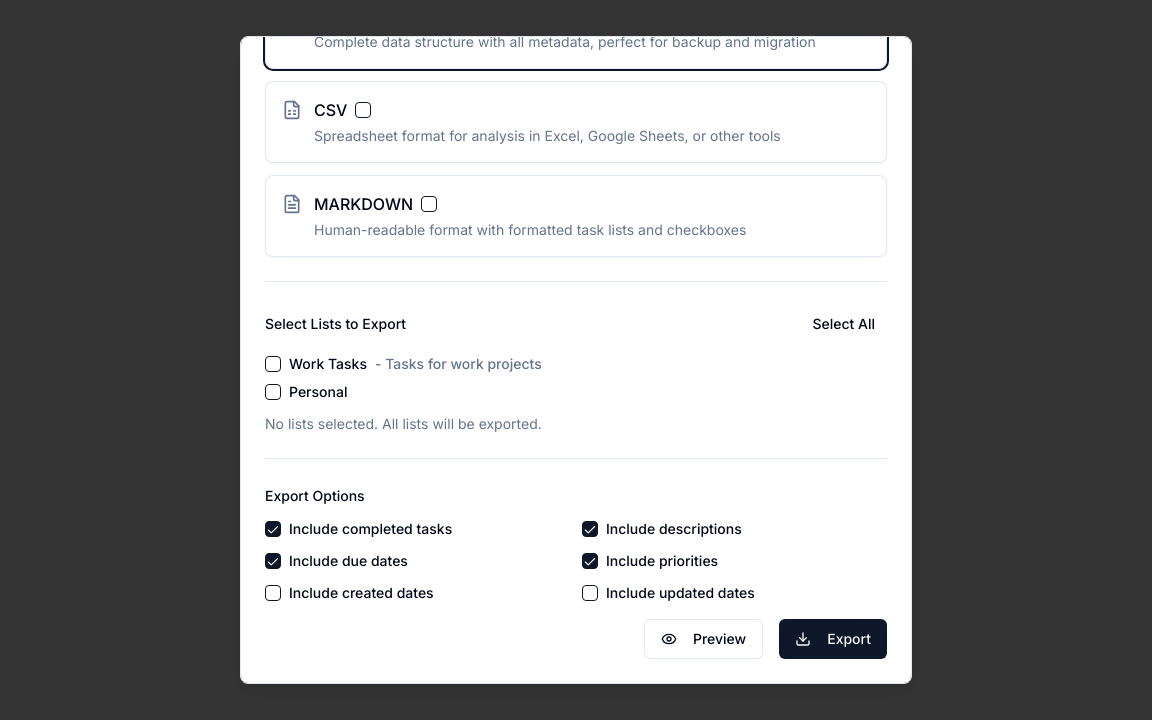
Test case: ExportDialog › handles preview functionality
(page scrolled)
Click the button "Preview" at (704, 639), box 644,619 -> 763,659
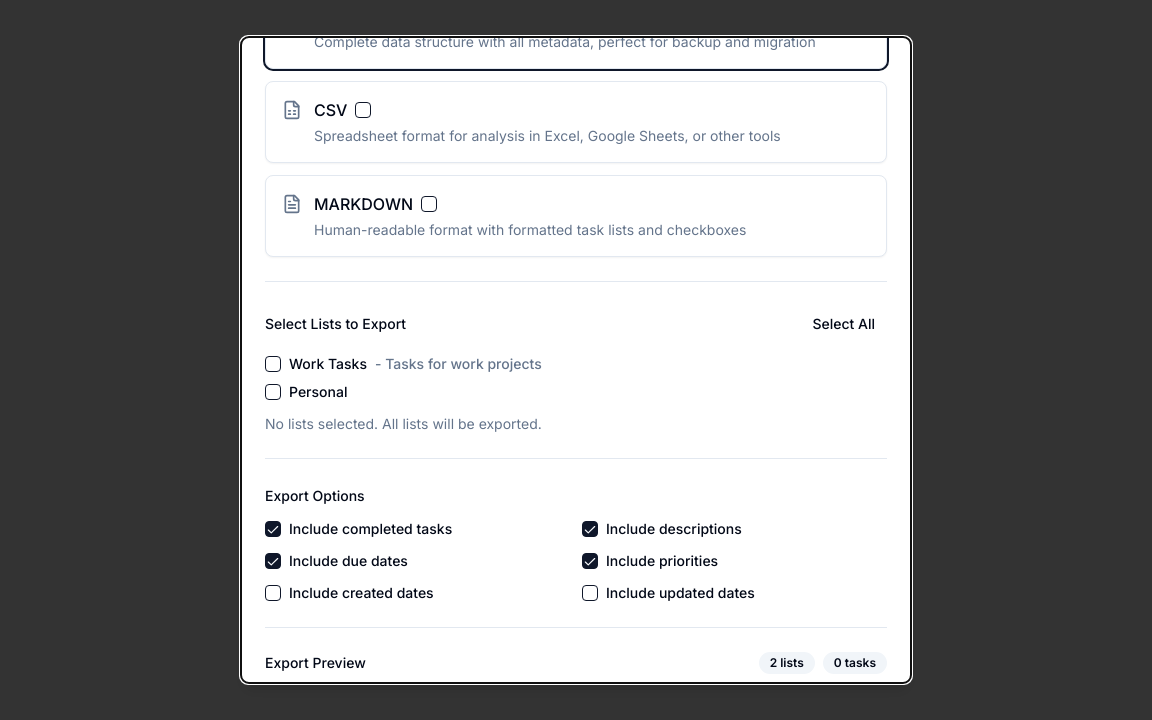
Expected: the text "Export Preview" is shown, 265,653 -> 366,673
